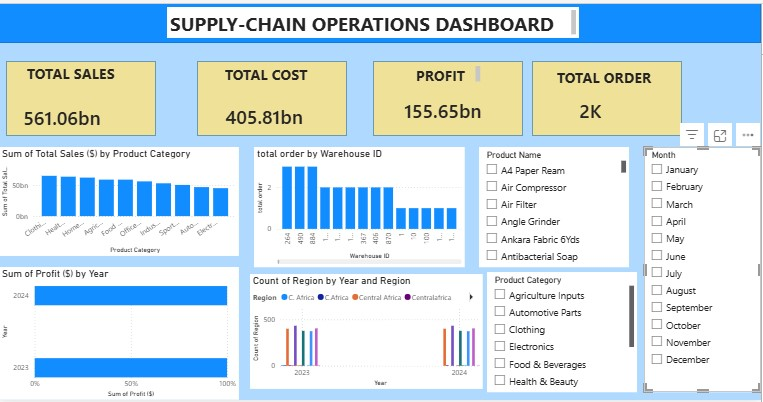

What the dashboard file says about the page in this screenshot:
{"tool":"powerbi","page":{"name":"Page 1","canvas":[1280,720],"ordinal":0},"visuals":[{"type":"shape","box":[0,0,1280,120.9],"z":0},{"type":"textbox","box":[282.2,60.5,692.1,52.1],"z":1},{"type":"shape","box":[11.8,151.2,252,126],"z":2},{"type":"shape","box":[895.3,151.2,252,126],"z":3},{"type":"shape","box":[628.2,151.2,252,126],"z":4},{"type":"shape","box":[332.6,151.2,252,126],"z":5},{"type":"textbox","box":[42,151.2,173,47],"z":6},{"type":"cardVisual","fields":{"Data":["Sum(Table1.Total Sales ($))"]},"box":[11.8,211.7,203.3,65.5],"z":7},{"type":"cardVisual","fields":{"Data":["Sum(Table1.Total Cost ($))"]},"box":[351.1,208.3,215,68.9],"z":8},{"type":"textbox","box":[374.6,152.9,168,45.4],"z":9},{"type":"cardVisual","fields":{"Data":["Sum(Table1.Profit ($))"]},"box":[651.8,198.2,228.5,68.9],"z":10},{"type":"textbox","box":[695.4,154.5,117.6,38.6],"z":11},{"type":"cardVisual","fields":{"Data":["Table1.total order"]},"box":[945.7,198.2,151.2,68.9],"z":12},{"type":"textbox","box":[932.3,157.9,176.4,50.4],"z":13},{"type":"columnChart","fields":{"Y":["Sum(Table1.Total Sales ($))"],"Category":["PRODUCT.Product Category"]},"box":[0,295.6,403.1,183.1],"z":14},{"type":"hundredPercentStackedBarChart","fields":{"Y":["Sum(Table1.Profit ($))"],"Category":["Table1.Order Date.Variation.Date Hierarchy.Year"]},"box":[0,497.2,403.1,223.4],"z":15},{"type":"columnChart","fields":{"Category":["Table1.Warehouse ID"],"Y":["Table1.total order"]},"box":[428.3,295.6,354.4,201.6],"z":16},{"type":"clusteredColumnChart","fields":{"Series":["CUSTOMER.Region"],"Y":["CountNonNull(CUSTOMER.Region)"],"Category":["Table1.Order Date.Variation.Date Hierarchy.Year"]},"box":[421.6,509,391.4,193.2],"z":17},{"type":"slicer","fields":{"Values":["PRODUCT.Product Name"]},"box":[806.3,295.6,252,201.6],"z":18},{"type":"slicer","fields":{"Values":["PRODUCT.Product Category"]},"box":[819.7,505.6,252,201.6],"z":19},{"type":"slicer","fields":{"Values":["Table1.Order Date.Variation.Date Hierarchy.Month"]},"box":[1083.5,295.6,196.5,411.5],"z":20}]}

Visuals, with their boxes on the page's 1280x720 design canvas (x1, y1, x2, y2). These are canvas units, not pixel positions in the 763x402 screenshot, which may show the page scaled, cropped or inside an application window:
shape: 0 0 1280 121
textbox: 282 60 974 113
shape: 12 151 264 277
shape: 895 151 1147 277
shape: 628 151 880 277
shape: 333 151 585 277
textbox: 42 151 215 198
cardVisual - Sum(Table1.Total Sales ($)): 12 212 215 277
cardVisual - Sum(Table1.Total Cost ($)): 351 208 566 277
textbox: 375 153 543 198
cardVisual - Sum(Table1.Profit ($)): 652 198 880 267
textbox: 695 154 813 193
cardVisual - Table1.total order: 946 198 1097 267
textbox: 932 158 1109 208
columnChart - Sum(Table1.Total Sales ($)) x PRODUCT.Product Category: 0 296 403 479
hundredPercentStackedBarChart - Sum(Table1.Profit ($)) x Table1.Order Date.Variation.Date Hierarchy.Year: 0 497 403 721
columnChart - Table1.Warehouse ID x Table1.total order: 428 296 783 497
clusteredColumnChart - CUSTOMER.Region x CountNonNull(CUSTOMER.Region): 422 509 813 702
slicer - PRODUCT.Product Name: 806 296 1058 497
slicer - PRODUCT.Product Category: 820 506 1072 707
slicer - Table1.Order Date.Variation.Date Hierarchy.Month: 1084 296 1280 707
